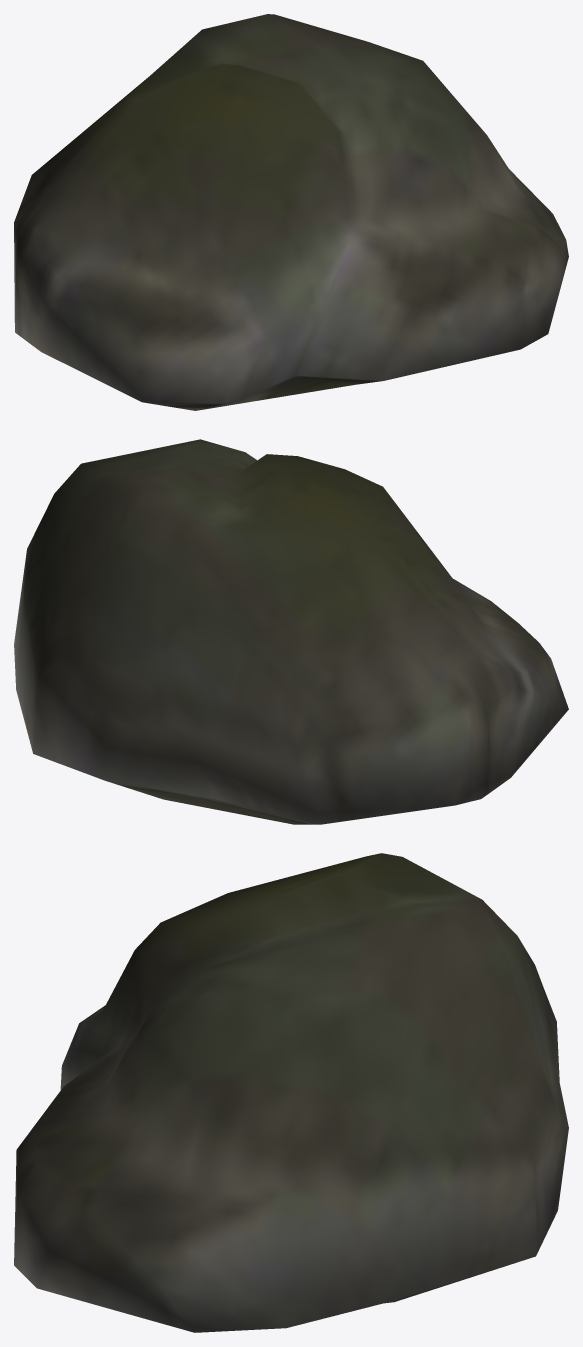
Rendered from rock1.fbx.
3 renders of one model, top to bottom at view 1: azimuth 30°, elevation 25°; view 2: azimuth 150°, elevation 25°; view 3: azimuth 270°, elevation 25°, orthographic. The views are drawn at different scales.
Parts seen in each view (by area): view 1: Rock_4__1_; view 2: Rock_4__1_; view 3: Rock_4__1_.
Part boxes in pixels (bbox=[...]): Rock_4__1_: bbox=[14, 14, 568, 410]; Rock_4__1_: bbox=[14, 439, 568, 824]; Rock_4__1_: bbox=[14, 853, 568, 1332].
Size of the model in its own units: 229 by 138 by 180.
